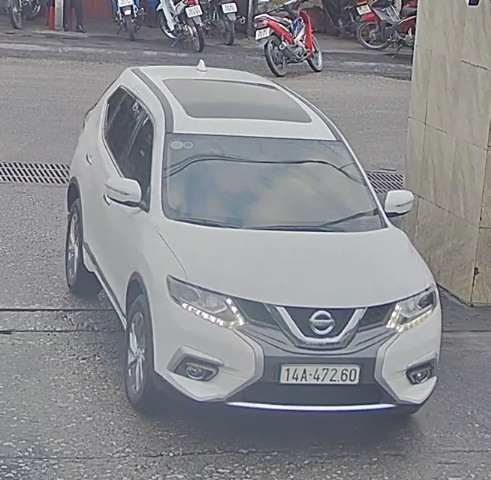vehicle plate: (275, 356, 364, 389)
